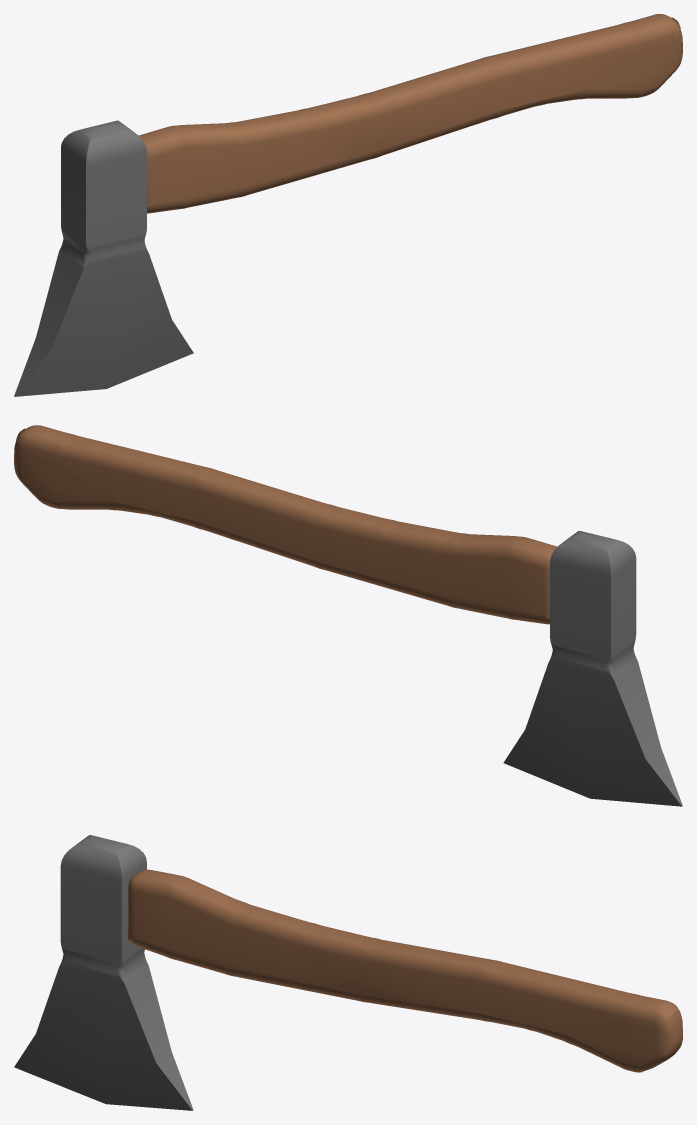
File: axe.fbx
3 renders of one model, top to bottom at view 1: azimuth 30°, elevation 25°; view 2: azimuth 150°, elevation 25°; view 3: azimuth 330°, elevation 25°, orthographic.
Visible parts, largest first — view 1: axe; view 2: axe; view 3: axe.
Part boxes in pixels (<box>): axe: <box>14,14,682,396</box>; axe: <box>14,425,682,806</box>; axe: <box>14,835,682,1110</box>.
Bounding box in the file's own units: 53.33 × 20.1 × 3.49.
